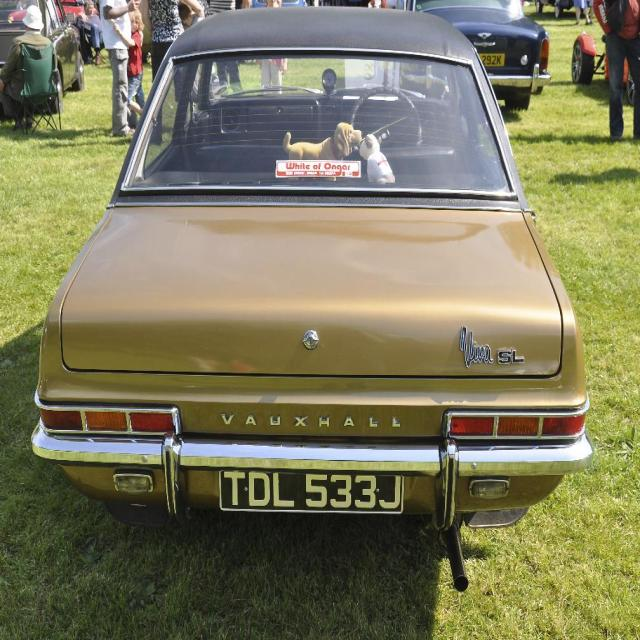car: (26, 0, 592, 595)
